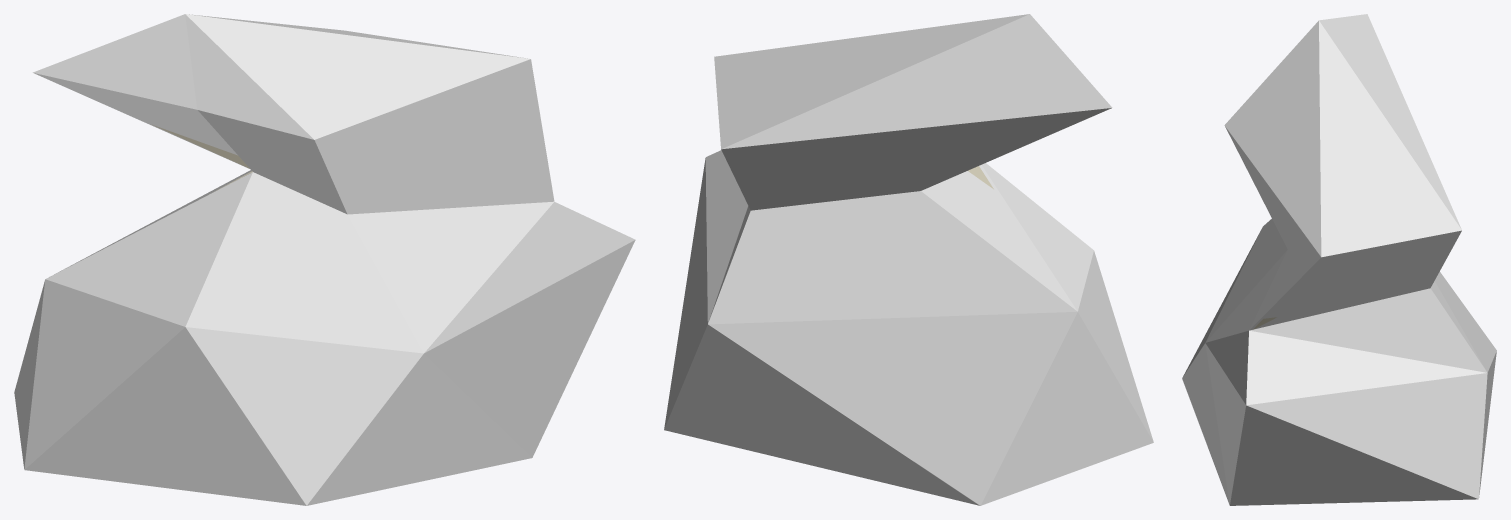
The model's file is resource__decoration__boulder__boulder-5.fbx.
3 renders of one model, left to right at view 1: azimuth 30°, elevation 25°; view 2: azimuth 150°, elevation 25°; view 3: azimuth 270°, elevation 25°, orthographic. The views are drawn at different scales.
Visible parts, largest first — view 1: Boulder_5; view 2: Boulder_5; view 3: Boulder_5.
Part boxes in pixels (x1,y1,x2,y2): Boulder_5: (14, 14, 635, 505); Boulder_5: (664, 14, 1153, 505); Boulder_5: (1182, 14, 1496, 505).
Bounding box in the file's own units: 680 × 556 × 425.
